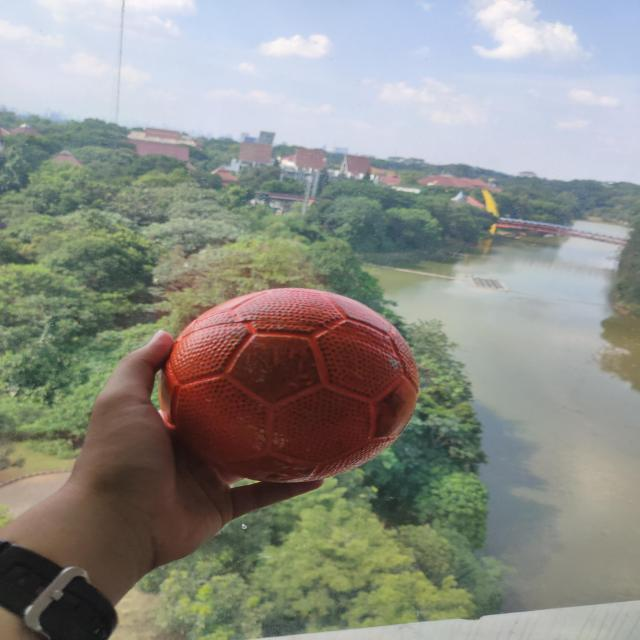bola: (162, 286, 421, 488)
